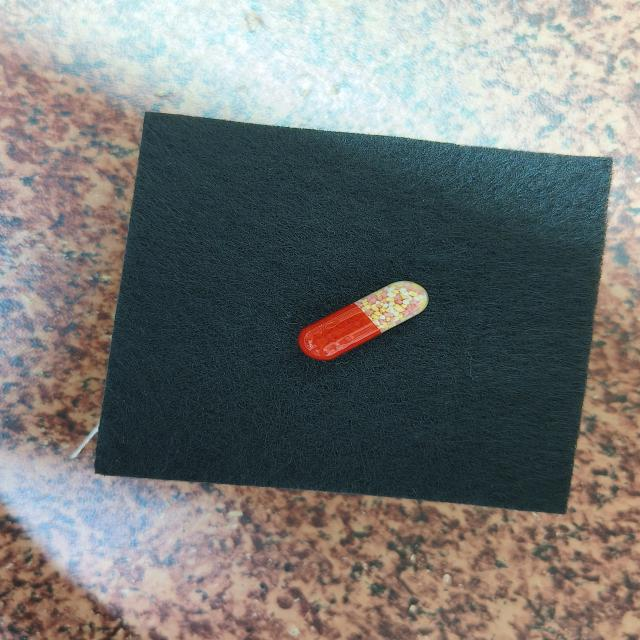Intact Capsule: (298, 281, 429, 360)
